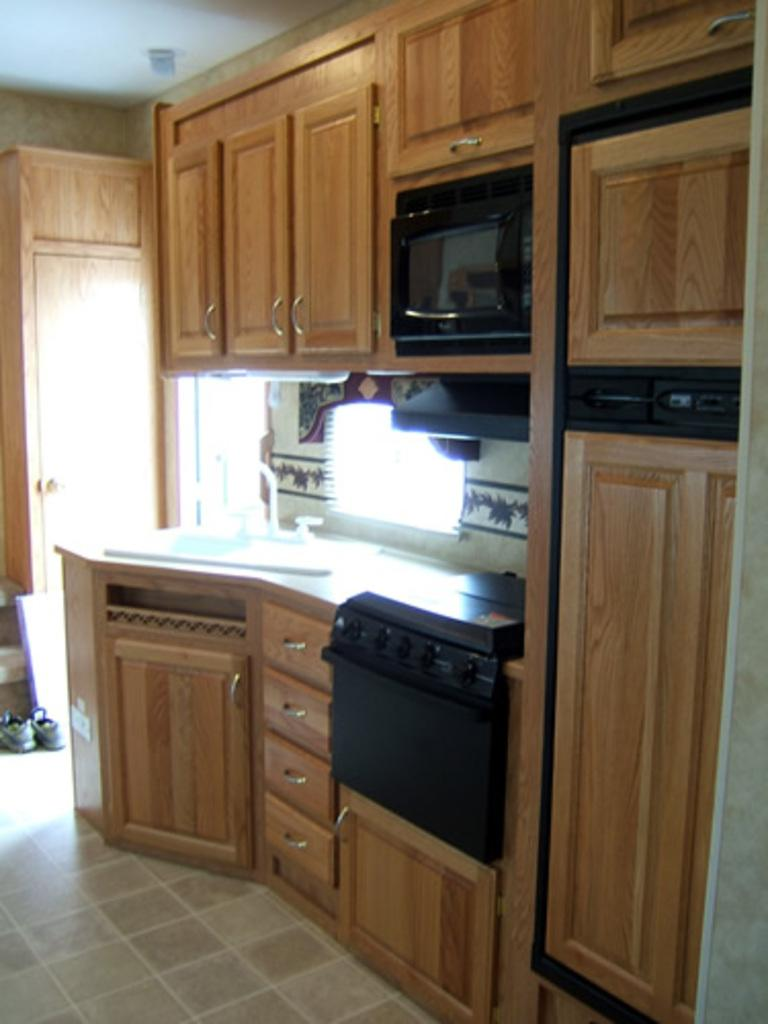cabinet_door: (110, 646, 255, 856), (335, 809, 491, 974), (286, 126, 379, 346), (389, 30, 530, 159), (216, 138, 290, 356), (166, 164, 219, 356), (267, 742, 335, 802), (274, 812, 330, 870), (273, 622, 332, 676), (278, 678, 333, 728)
handle: (331, 798, 355, 856), (279, 821, 315, 859), (278, 751, 310, 789), (284, 624, 312, 662), (280, 694, 312, 727), (291, 290, 310, 337), (201, 297, 220, 344), (269, 294, 286, 336), (449, 136, 486, 154), (232, 668, 245, 708)
